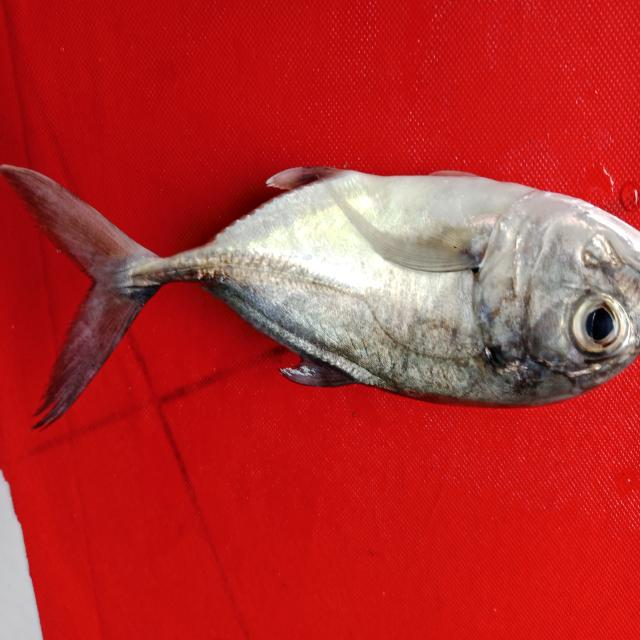ikan: (9, 116, 633, 439)
